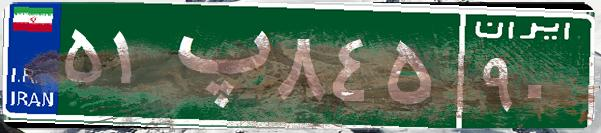0: (525, 38, 570, 115)
1: (110, 28, 158, 105)
4: (330, 28, 385, 110)
5: (385, 28, 445, 110), (57, 26, 110, 107)
8: (273, 28, 330, 110)
9: (475, 38, 525, 113)
پ: (158, 15, 273, 115)
